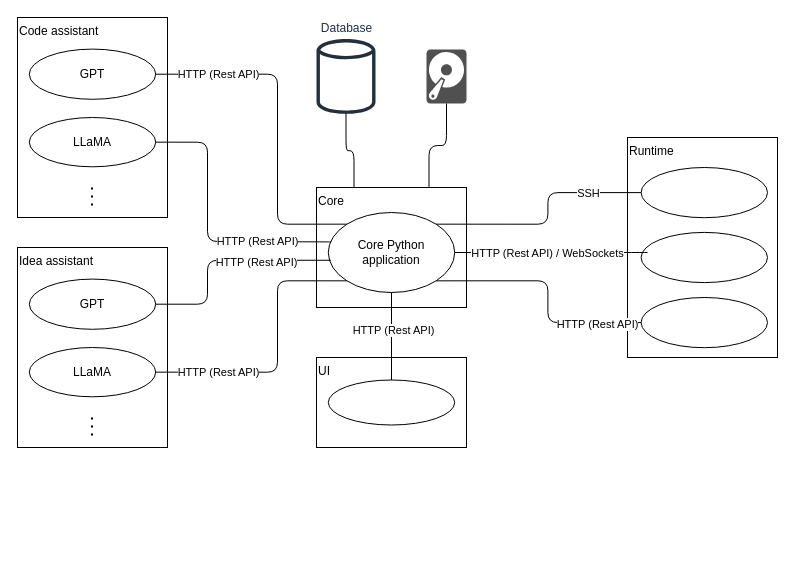
Some shapes in this 795 by 585 pixel diagram are drawn without their labels. The centre of each missing label's shape, as x and y in pixels:
Apache Zeppelin: (704,322)
Frontend Application: (391,402)
Jupyter Server: (704,257)
Python Runtime: (704,192)
Storage: (446,76)
